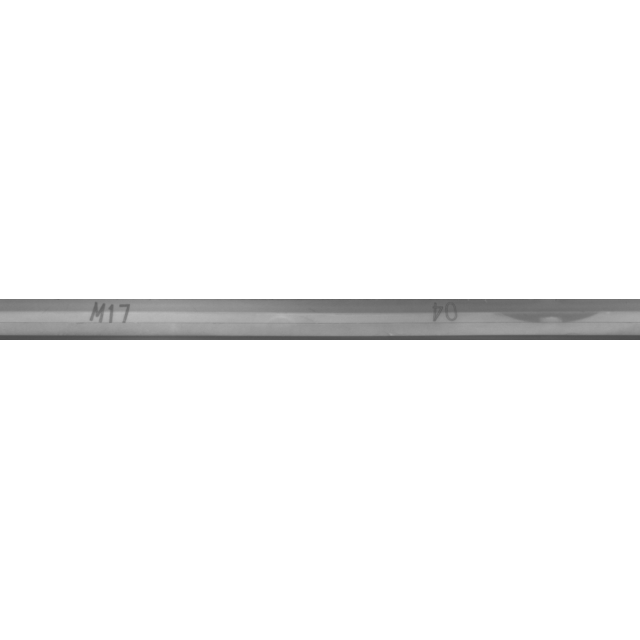mohao: (7, 270, 207, 370)
xuehao: (351, 270, 551, 370)
